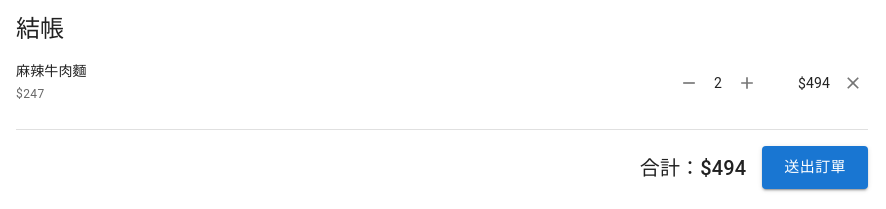
CheckoutPage › happy path › decrements quantity when - button is clicked
Click the button named "decrease quantity of 麻辣牛肉麵". click: click(689, 83)
box: 674,68 -> 704,98
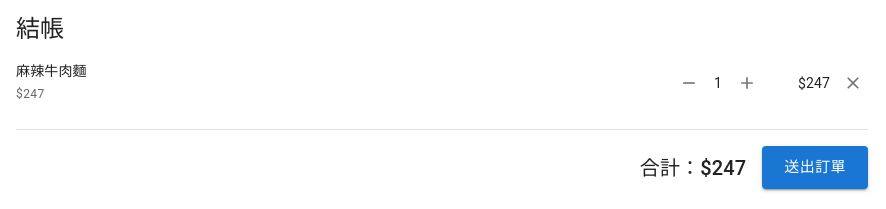
Now the text "1" is shown, box 714,75 -> 722,91
